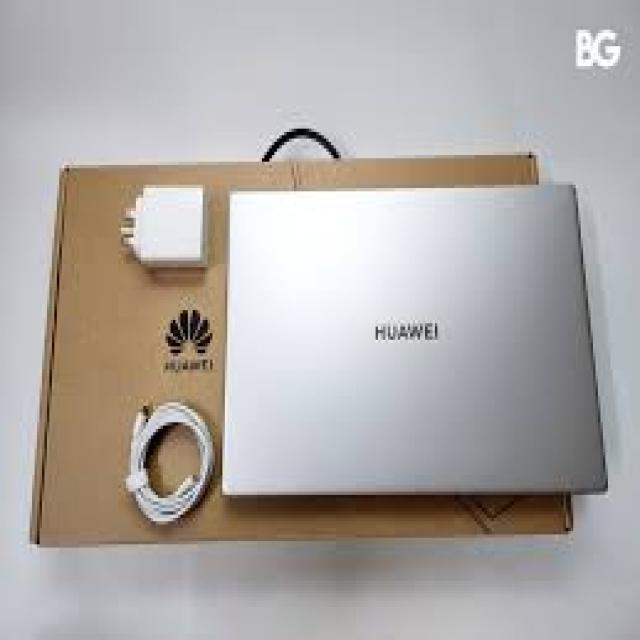laptop: (220, 178, 608, 498)
